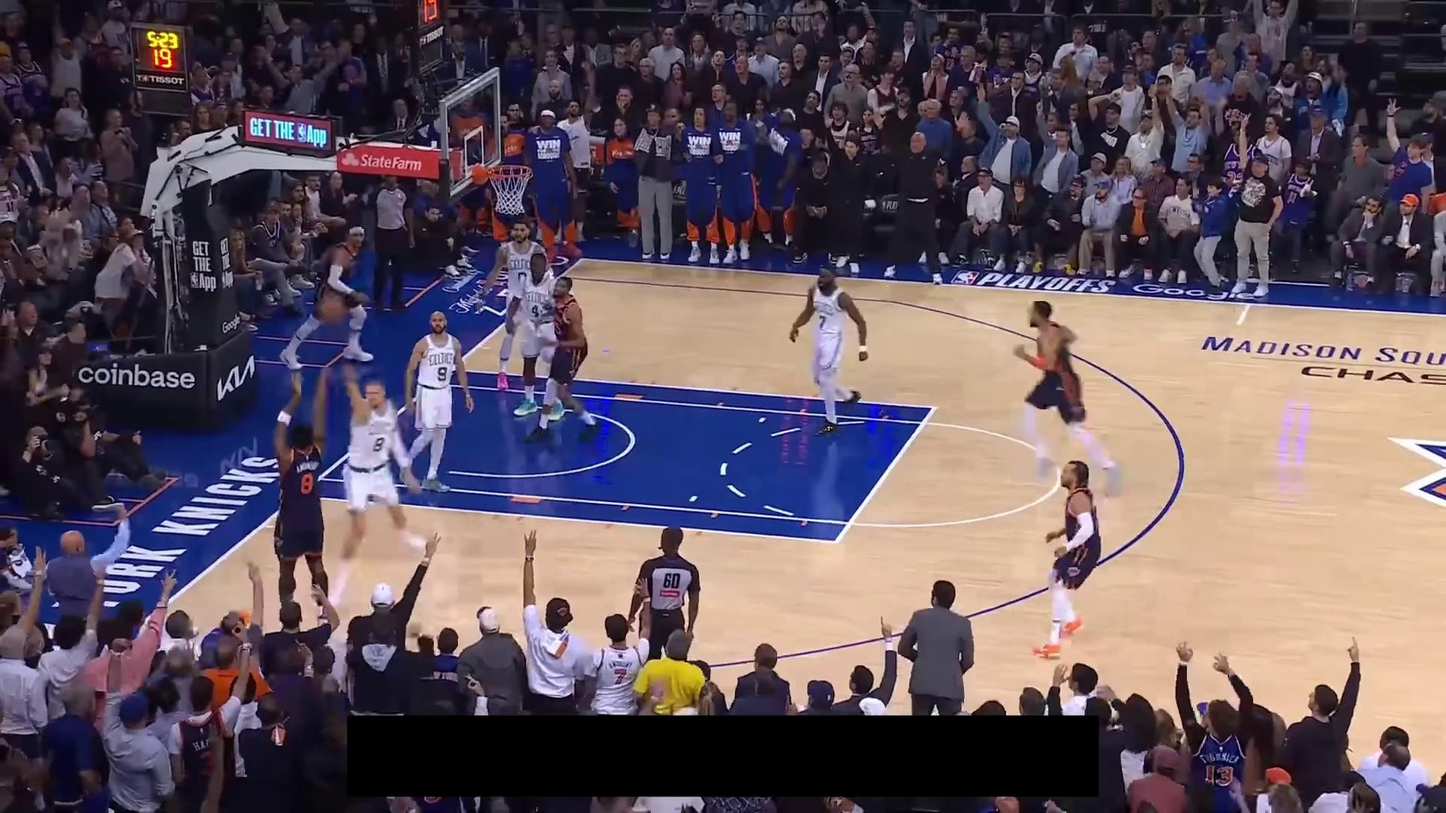ball: (315, 294, 348, 323)
number: (299, 473, 314, 497), (373, 436, 385, 453), (437, 366, 448, 382), (530, 303, 539, 318), (818, 314, 827, 328)
player: (1010, 297, 1120, 496), (278, 222, 380, 376), (1029, 456, 1105, 661), (474, 216, 559, 394), (787, 259, 870, 436), (398, 309, 477, 492), (520, 274, 602, 450), (502, 251, 568, 425)
player-jump-shot: (267, 371, 338, 629)
player-shot-block: (327, 354, 432, 611)
referee: (627, 526, 702, 659), (364, 177, 423, 317)
rim: (486, 162, 532, 178)
